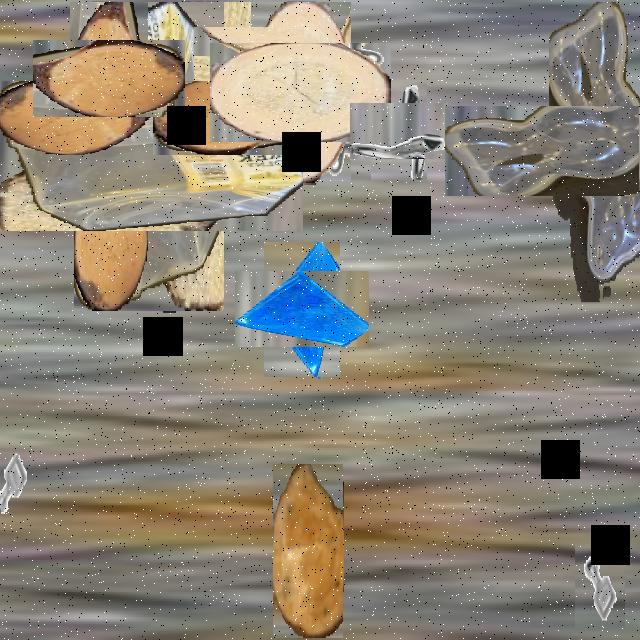glass: (249, 257, 355, 362)
metal: (206, 14, 292, 100), (360, 93, 438, 170), (575, 542, 625, 631), (0, 439, 35, 528)
plastic: (34, 42, 264, 271), (497, 53, 640, 248)
wood: (128, 2, 268, 226), (231, 22, 371, 163), (52, 20, 166, 136), (273, 464, 343, 638)
